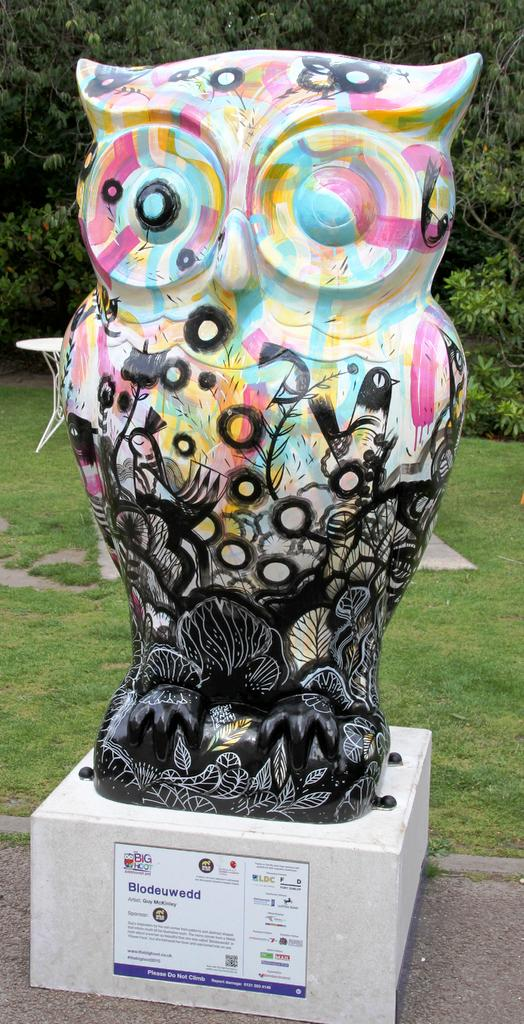Owl: (7, 40, 489, 832)
